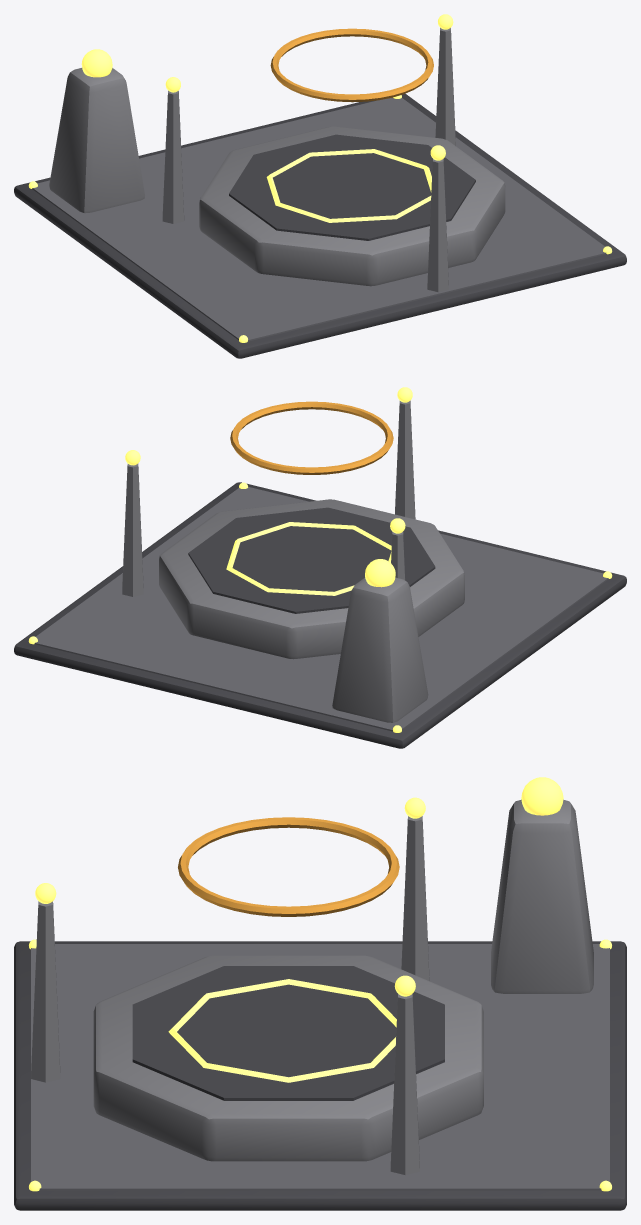
File: starport_rob.glb
3 views of the same model, one above another, from view 1: azimuth 30°, elevation 25°; view 2: azimuth 150°, elevation 25°; view 3: azimuth 270°, elevation 25° (orthographic). The views are drawn at different scales.
Visible parts, largest first — view 1: starport_rob, spin_m; view 2: starport_rob, spin_m; view 3: starport_rob, spin_m.
Boxes of the visible parts, x1,y1,x2,y2 form: starport_rob: (14,14,626,358); spin_m: (270,28,433,102); starport_rob: (14,387,626,748); spin_m: (230,401,393,474); starport_rob: (14,777,626,1210); spin_m: (178,817,399,916).
Bounding box in the file's own units: 2.9 × 1.22 × 2.9.
